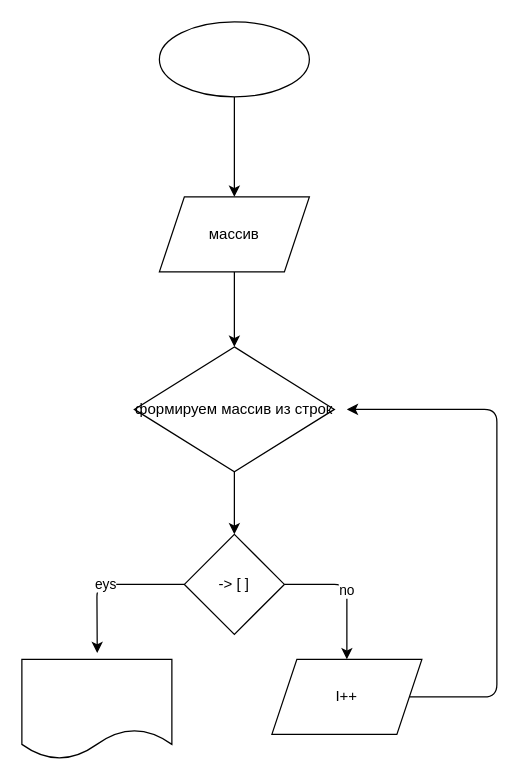
The diagram is 529 pixels wide and 781 high, and some of its shapes have lost their labels. The shapes that lost their labels are listed below. From the top down, each one's centre as x and y in pixels, then its label:
the point at 233,59: start
the point at 96,708: печать
